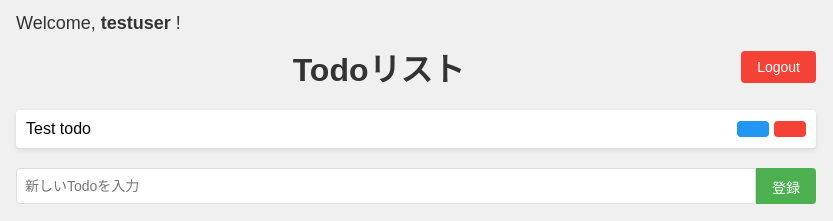
it: App Component › updates a todo
The width and height of the screenshot is (833, 221).
expect the text "Test todo" is shown: met, box [26,120,91,138]
Step 1. Click the 2nd button → (753, 129), box [737,121,769,137]
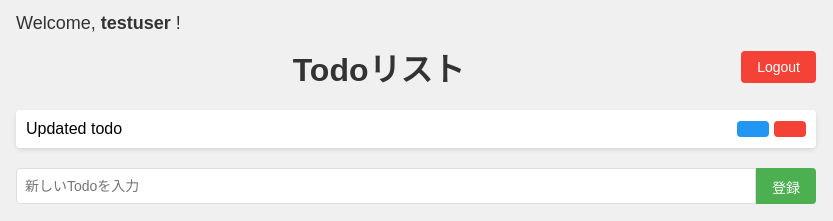
expect the text "Updated todo" is shown: met, box [26,120,122,138]
